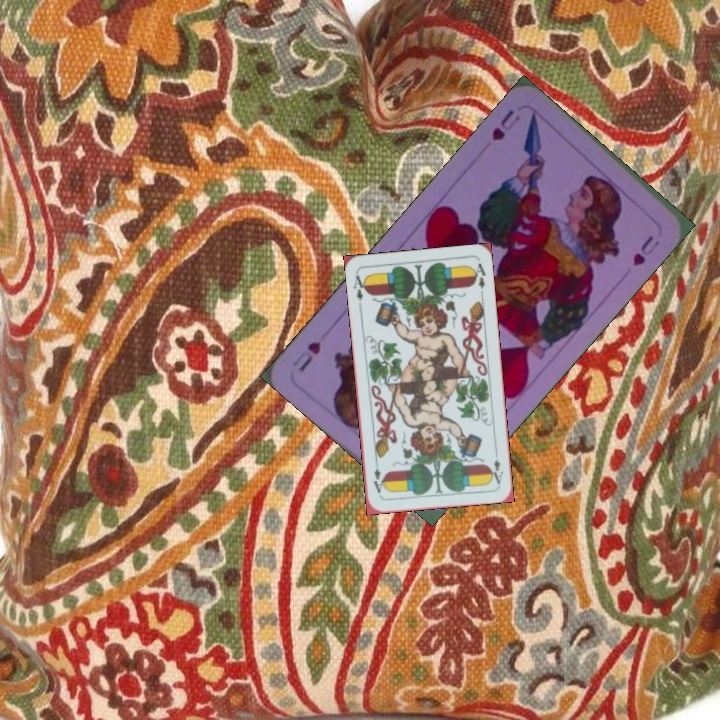EA: (349, 269, 370, 304), (487, 455, 505, 487)
HU: (487, 105, 524, 144)
